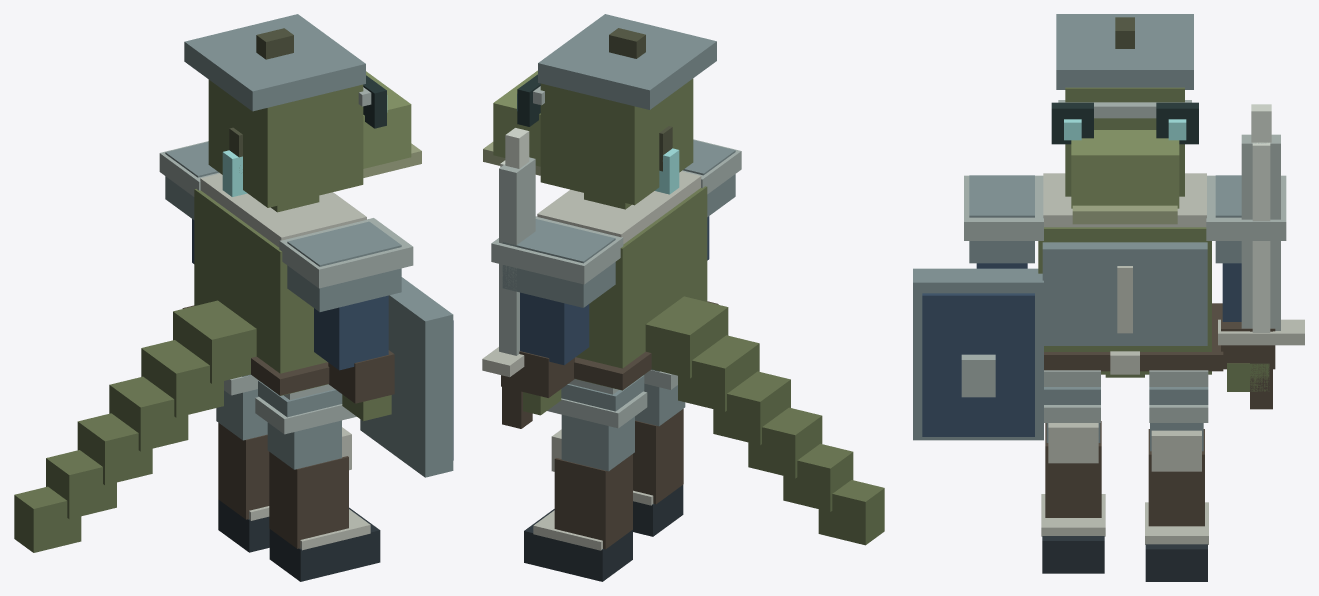
File: scale-warrior.glb
3 renders of one model, left to right at view 1: azimuth 30°, elevation 25°; view 2: azimuth 150°, elevation 25°; view 3: azimuth 270°, elevation 25°, orthographic. The views are drawn at different scales.
Parts seen in each view (by area): view 1: Tail, Boots, Head, Torso, Shield, Helmet, Shoulders, Pauldrons, Sleeves, Collar, Legs, Tassets (+8 smaller); view 2: Tail, Boots, Head, Torso, Helmet, Shoulders, Legs, SwordBlade, Collar, Sleeves, Pauldrons, Tassets (+10 smaller); view 3: Breastplate, ShieldRim, Boots, Helmet, Snout, Shield, Tassets, Shoulders, Pauldrons, Torso, Kneeguards, SwordBlade (+19 smaller).
Boxes of the visible parts, x1,y1,x2,y2 form: Tail: [14, 300, 256, 552]; Boots: [218, 423, 380, 581]; Head: [208, 79, 363, 207]; Torso: [194, 189, 327, 395]; Shield: [360, 277, 453, 477]; Helmet: [184, 14, 371, 111]; Shoulders: [165, 142, 401, 311]; Pauldrons: [159, 141, 413, 288]; Sleeves: [192, 219, 388, 370]; Collar: [200, 173, 366, 247]; Legs: [216, 374, 341, 469]; Tassets: [224, 375, 356, 434]; Tail: [645, 296, 884, 545]; Boots: [524, 409, 683, 581]; Head: [540, 78, 693, 205]; Torso: [575, 186, 707, 390]; Helmet: [533, 14, 716, 109]; Shoulders: [502, 140, 735, 307]; Legs: [561, 369, 685, 471]; SwordBlade: [499, 157, 535, 355]; Collar: [537, 171, 701, 244]; Sleeves: [520, 216, 709, 365]; Pauldrons: [491, 139, 741, 284]; Tassets: [547, 370, 677, 428]; Breastplate: [1042, 242, 1207, 345]; ShieldRim: [922, 293, 1034, 436]; Boots: [1042, 421, 1207, 581]; Helmet: [1056, 14, 1193, 118]; Snout: [1071, 130, 1179, 208]; Shield: [913, 268, 1043, 440]; Tassets: [1044, 370, 1208, 422]; Shoulders: [969, 175, 1241, 263]; Pauldrons: [964, 175, 1286, 240]; Torso: [1038, 227, 1211, 374]; Kneeguards: [1048, 423, 1201, 471]; SwordBlade: [1241, 134, 1280, 330].
Bounding box in the file's own units: 6.62 × 8.87 × 5.98.
